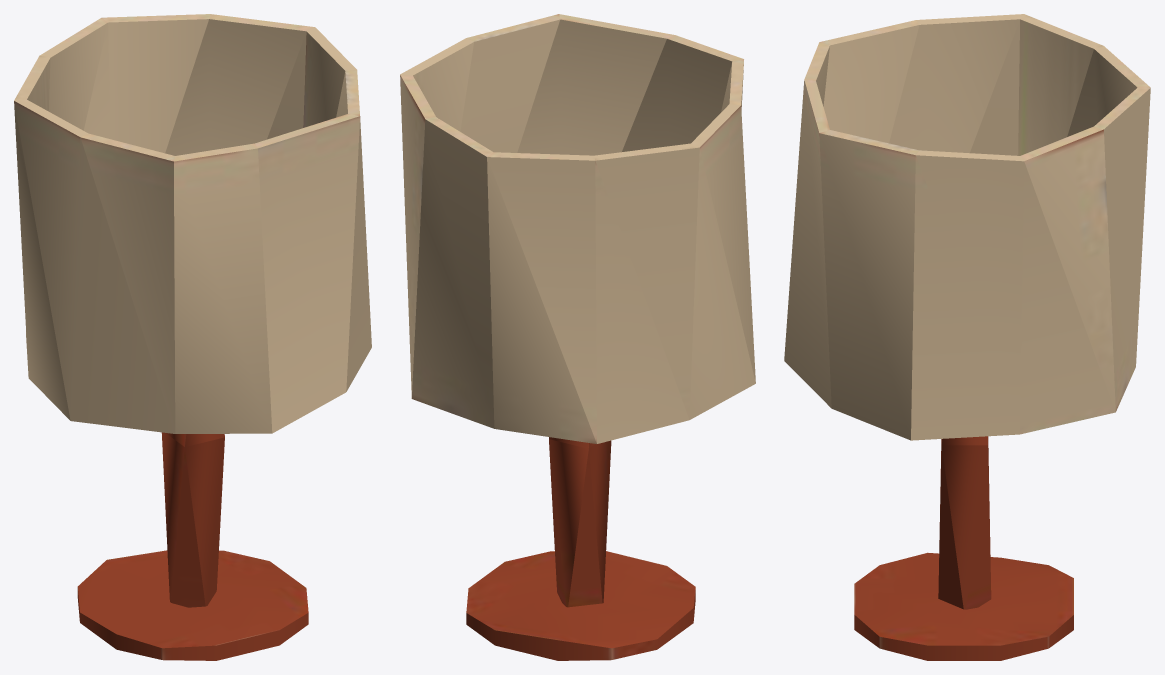
File: lamp.fbx
The picture shows the model from 3 angles, left to right: view 1: azimuth 30°, elevation 25°; view 2: azimuth 150°, elevation 25°; view 3: azimuth 270°, elevation 25°; orthographic projection.
Parts seen in each view (by area): view 1: Low_Poly_Lamp:polySurface1; view 2: Low_Poly_Lamp:polySurface1; view 3: Low_Poly_Lamp:polySurface1.
Boxes of the visible parts, left/top/right/bottom form: Low_Poly_Lamp:polySurface1: left=14, top=14, right=371, bottom=660; Low_Poly_Lamp:polySurface1: left=400, top=14, right=755, bottom=660; Low_Poly_Lamp:polySurface1: left=784, top=14, right=1150, bottom=660.
Bounding box in the file's own units: 7.93 × 13.24 × 8.34.
Materials: 1 (1 with a texture image).
